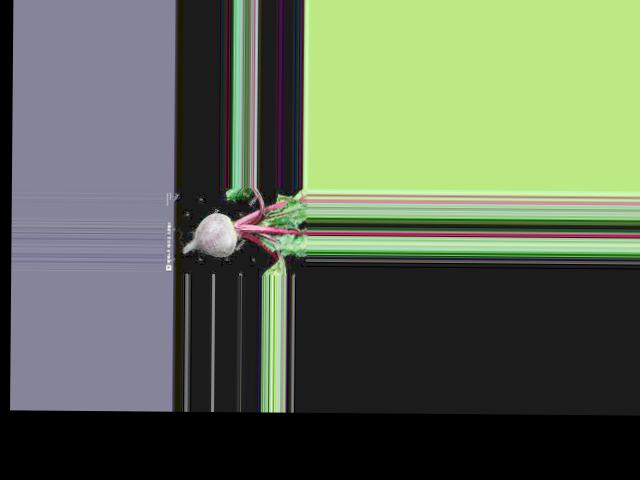beet: (182, 186, 307, 275)
